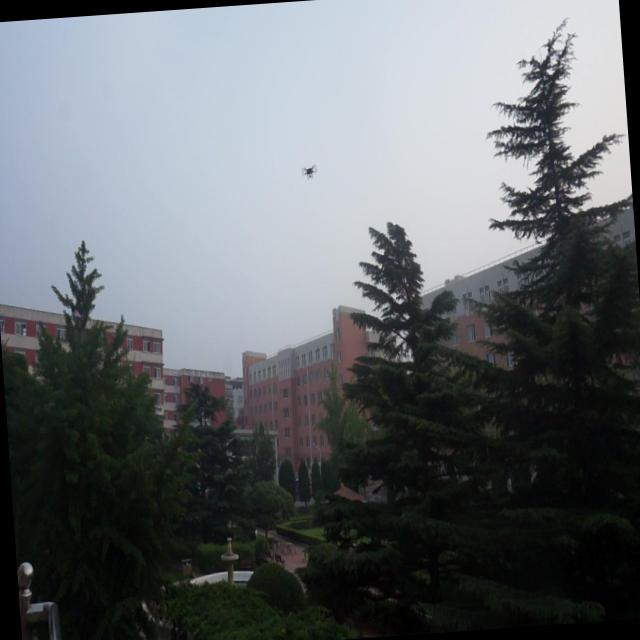drone: (300, 160, 319, 183)
